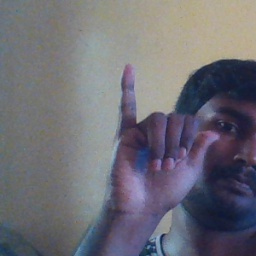J: (108, 63, 222, 214)
